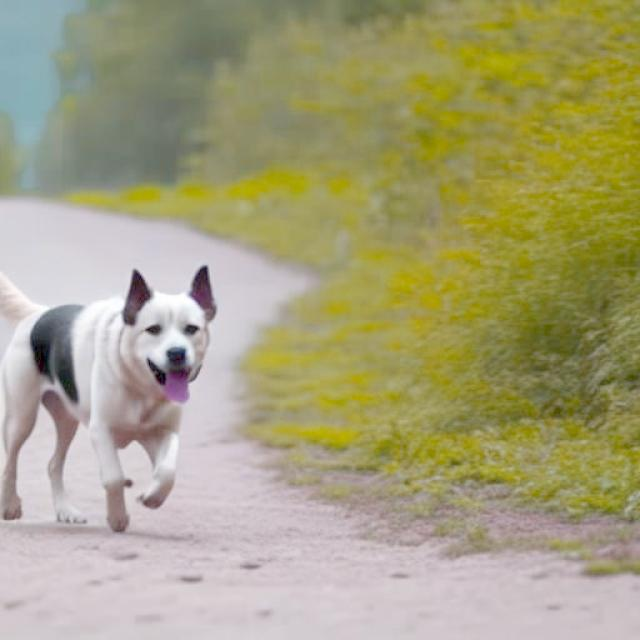Dog: (0, 261, 218, 531)
